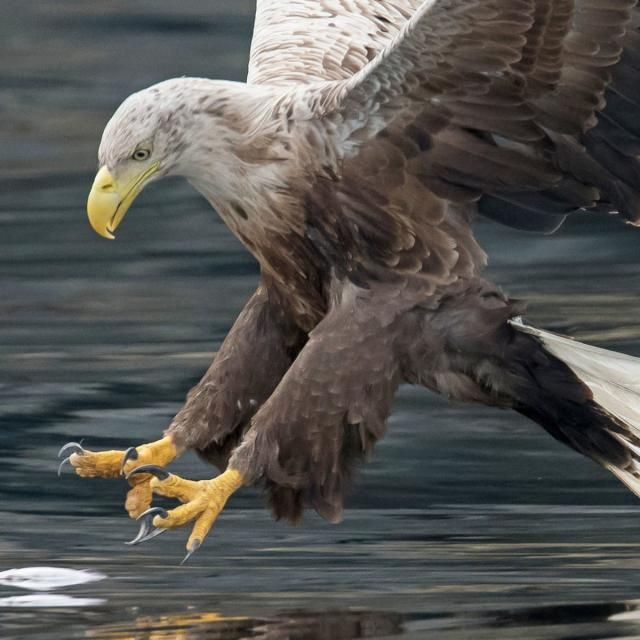Eagle: (45, 2, 640, 566)
